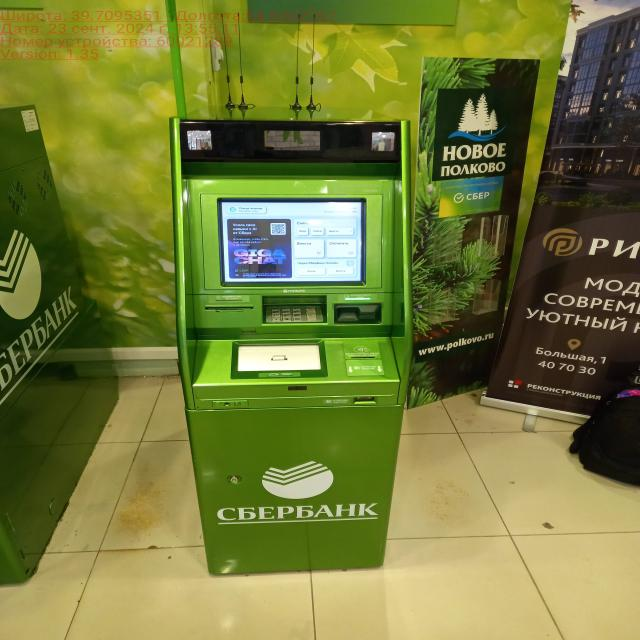bank: (163, 104, 418, 580), (0, 98, 125, 592)
